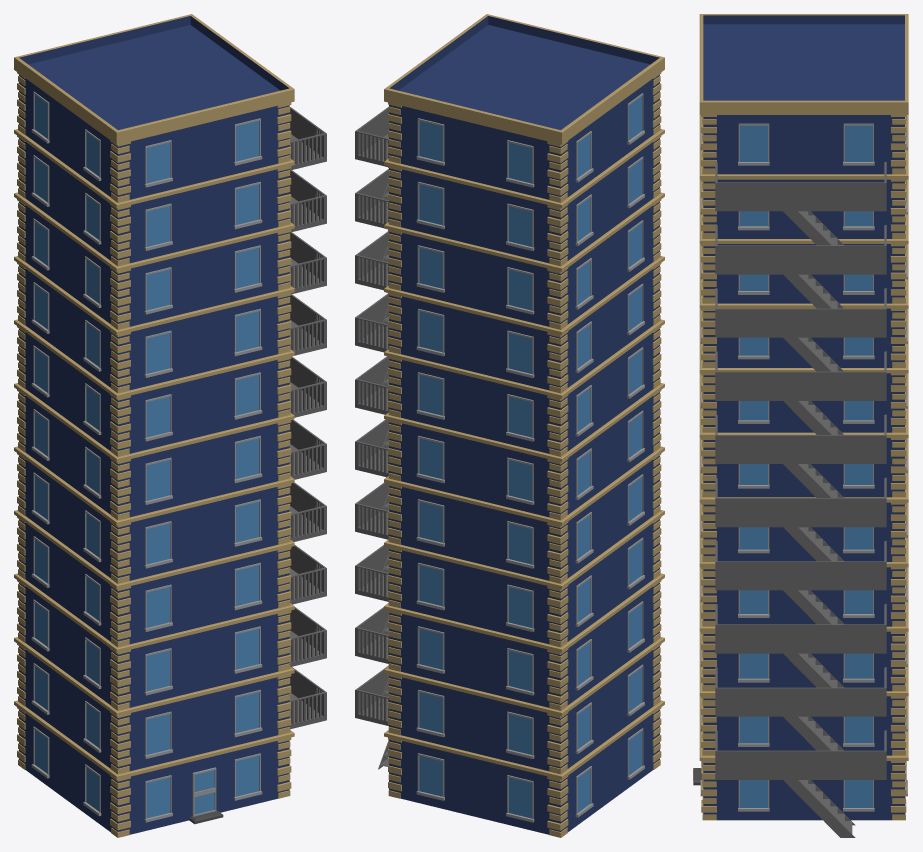
The model's file is GebouwBlauwHoog.fbx.
3 renders of one model, left to right at view 1: azimuth 30°, elevation 25°; view 2: azimuth 150°, elevation 25°; view 3: azimuth 270°, elevation 25°, orthographic.
Parts seen in each view (by area): view 1: gebouwBlauwHoog; view 2: gebouwBlauwHoog; view 3: gebouwBlauwHoog.
Boxes of the visible parts, <box> form: gebouwBlauwHoog: <box>14,14,326,837</box>; gebouwBlauwHoog: <box>355,14,664,837</box>; gebouwBlauwHoog: <box>693,14,908,837</box>.
Bounding box in the file's own units: 762 × 2364 × 642.
